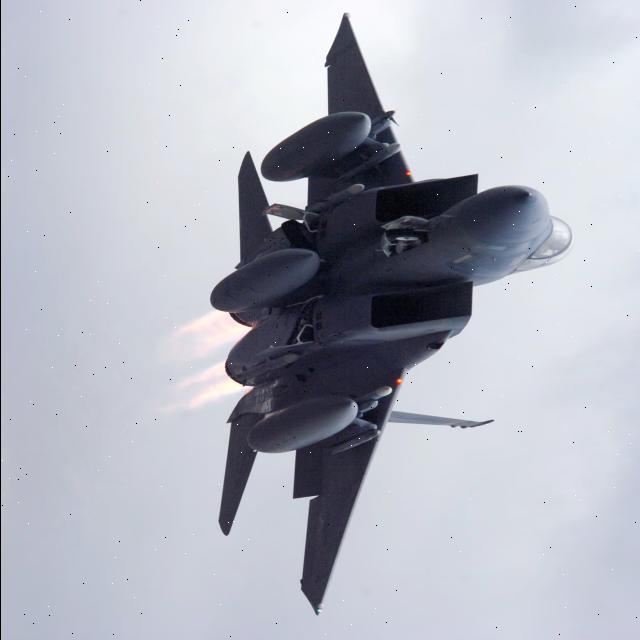F15: (171, 5, 583, 637)
